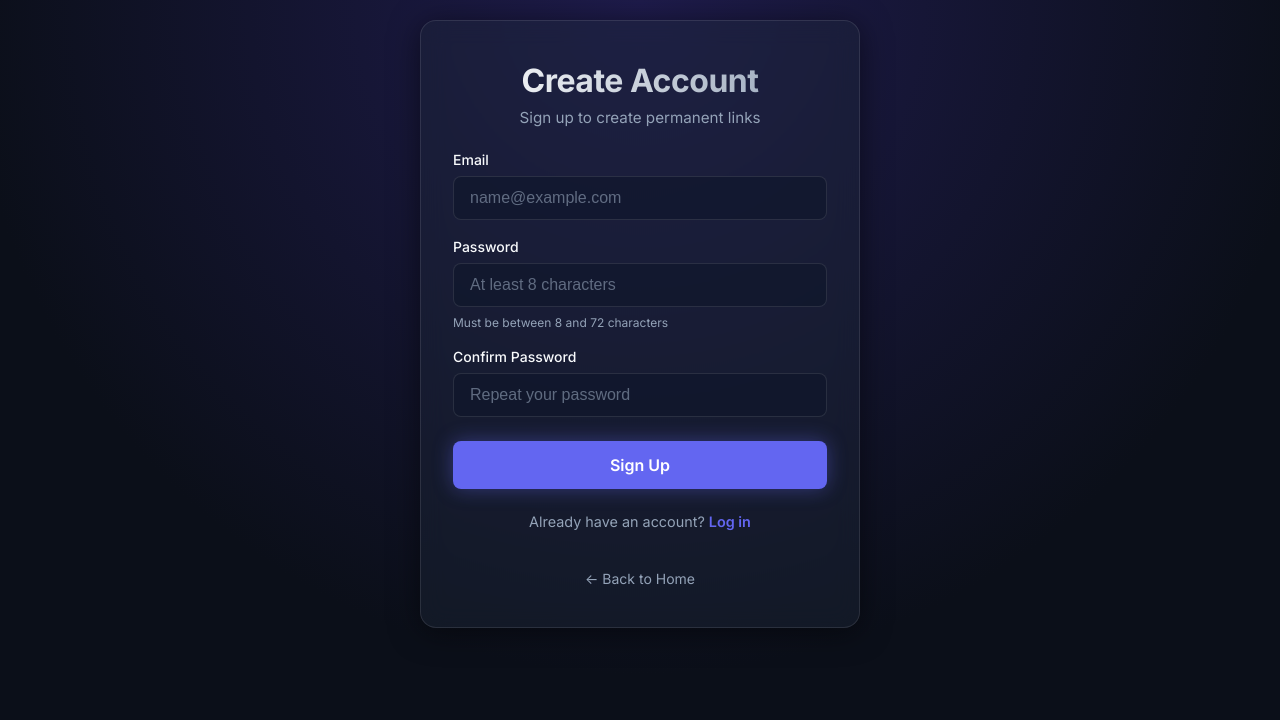
Test: SignupPage Component › validates invalid email format
Step 1. Type "not-an-email" into the field labelled "Email" → (640, 198), box [453,176,827,220]
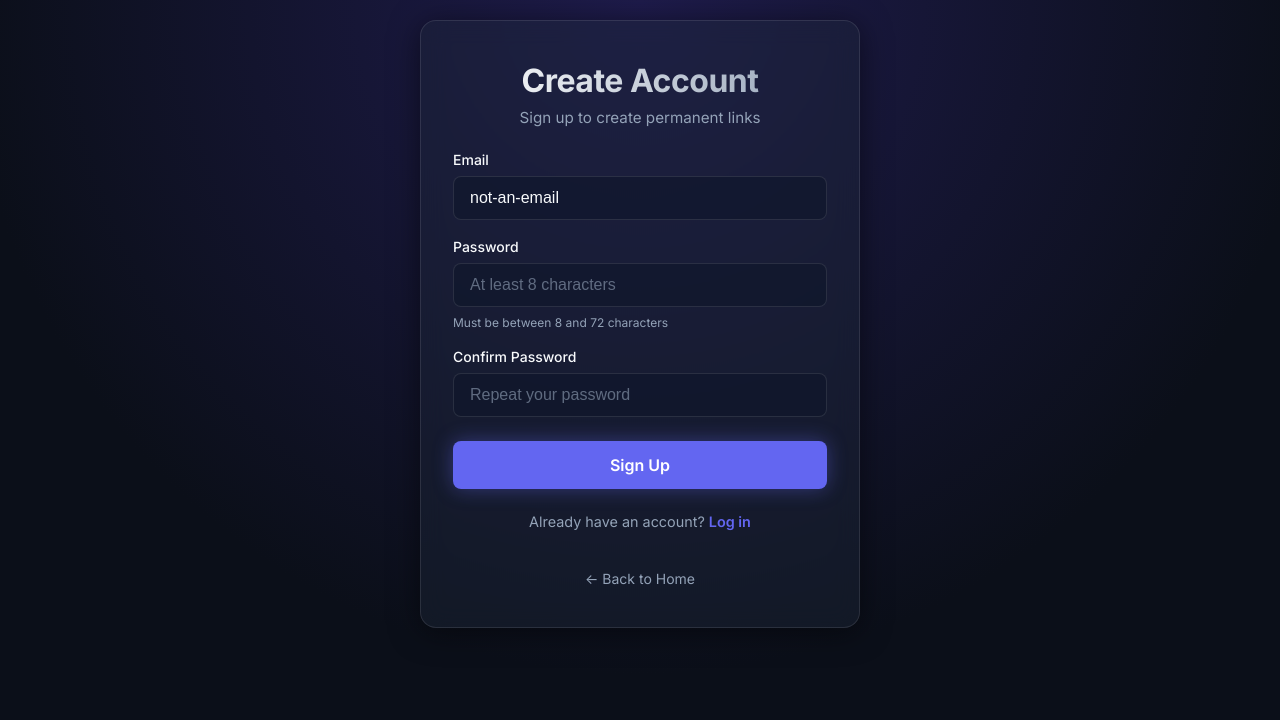
Step 2. Click the button "Sign Up" → (640, 465), box [453,441,827,489]
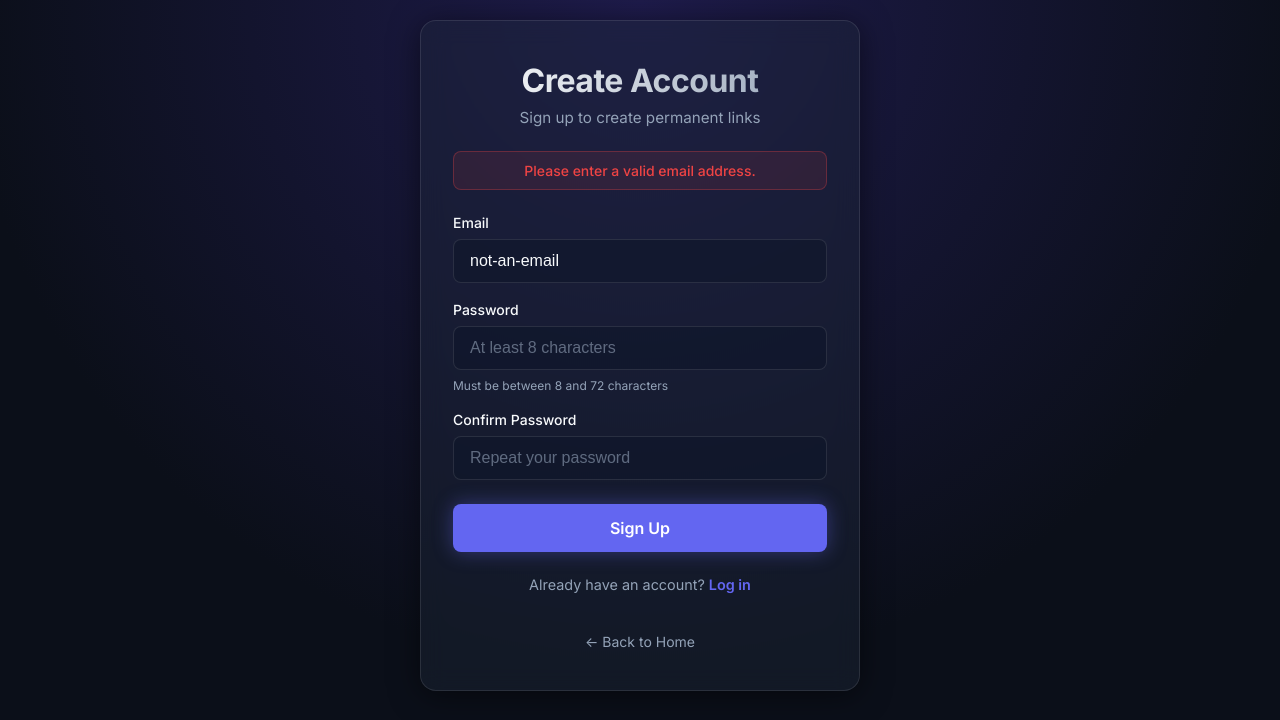
Result: the text "Please enter a valid email address." is shown at [453,151,827,190]
